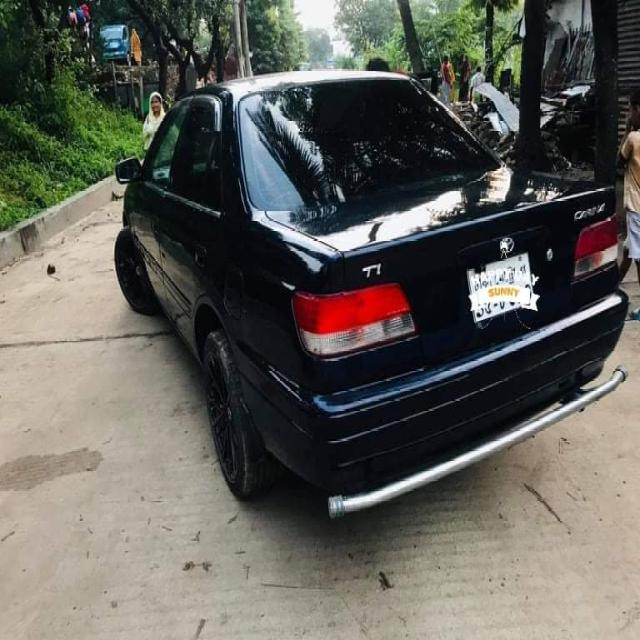black: (92, 54, 640, 478)
